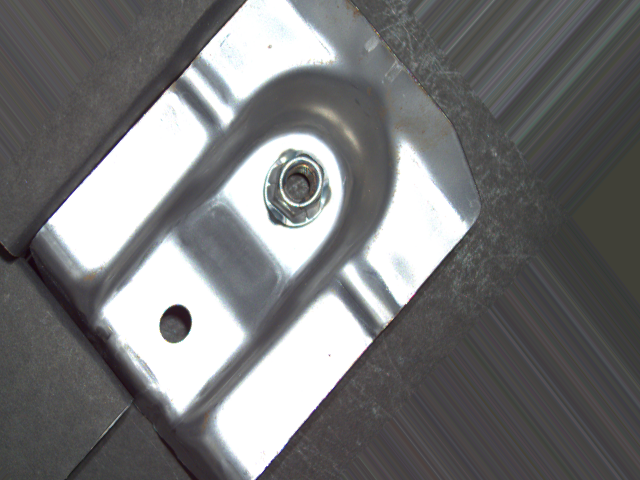good: (262, 147, 335, 231)
